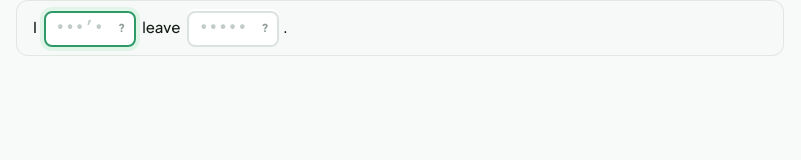
Test case: FillInBlanksDictation › auto-completes after 40ms when all blanks are valid and auto-jumps focus on completing a non-last blank
Type "don't" into the field named "Blank 1". click: (90, 29)
box: [44,11,136,47]
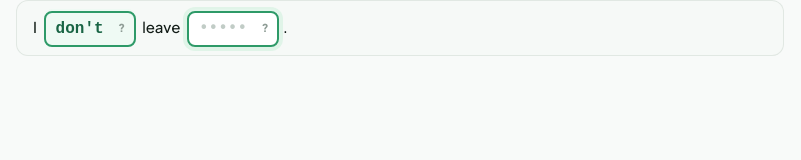
Type "later" into the field named "Blank 2". click: (233, 29)
box: [187,11,279,47]
Wait 40 ms
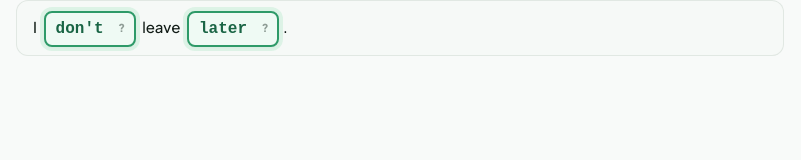
Now the field named "Blank 1" has class "border-brand-500", box [44,11,136,47]
Now the field named "Blank 2" has class "border-brand-500", box [187,11,279,47]
